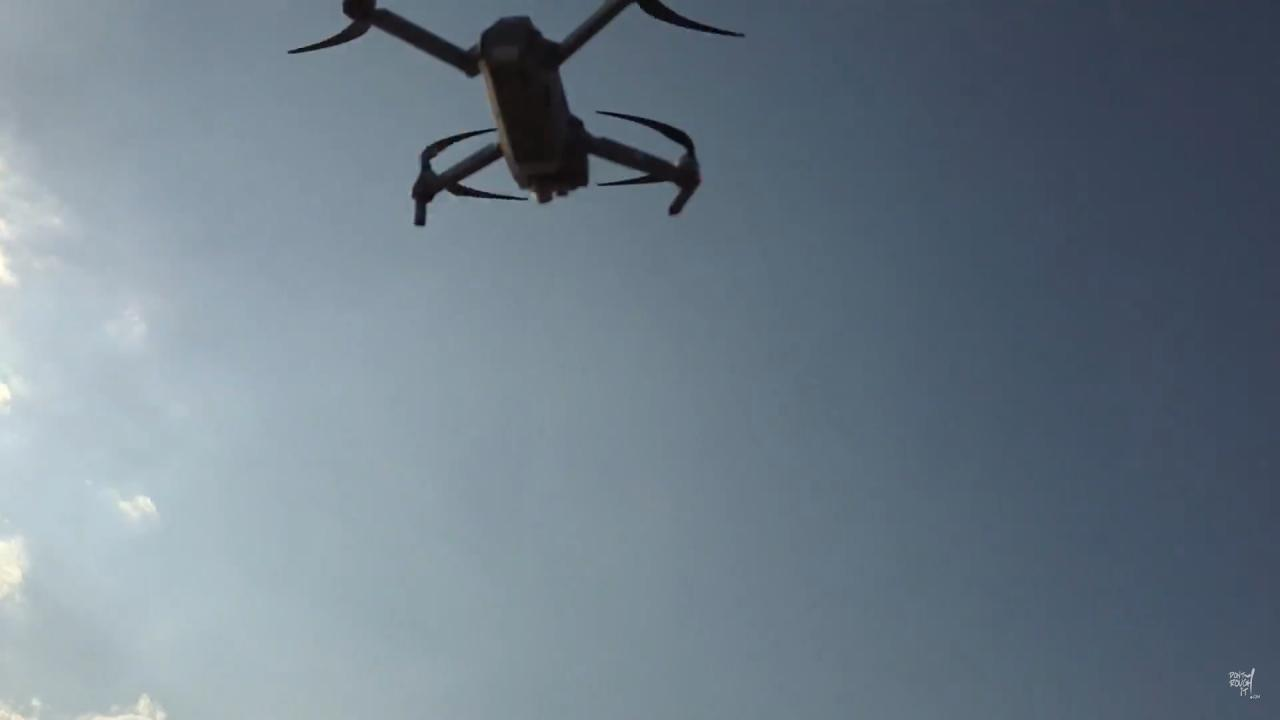Drone: (270, 0, 762, 244)
